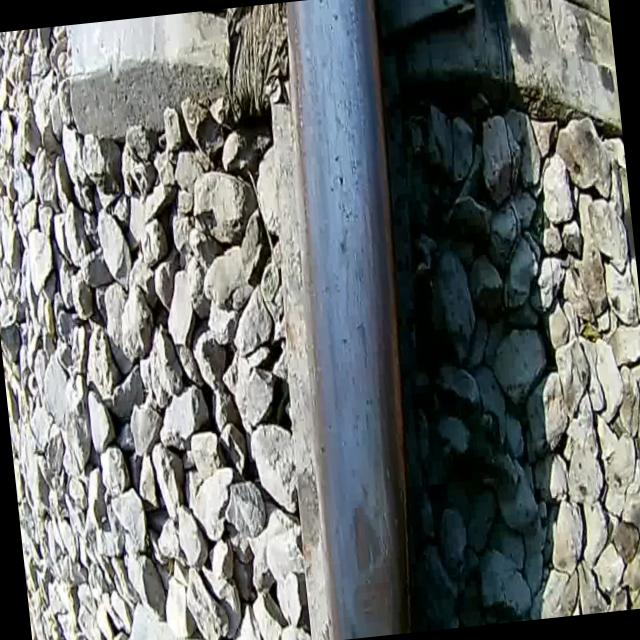Squats: (344, 564, 412, 638), (345, 498, 387, 578)
